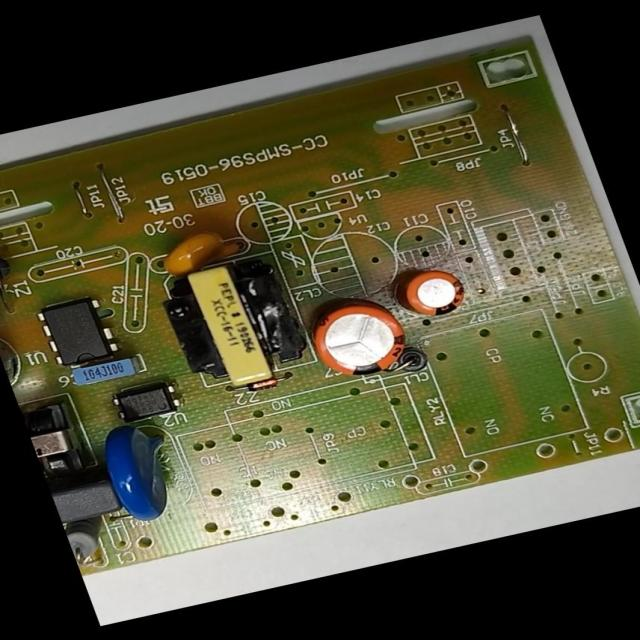Cap1: (304, 290, 426, 386)
Cap2: (394, 259, 478, 324)
MOSFET: (32, 292, 124, 368)
Mov: (93, 418, 194, 525)
Resistor: (62, 514, 117, 566)
Transformer: (148, 248, 320, 399), (20, 399, 97, 485)
